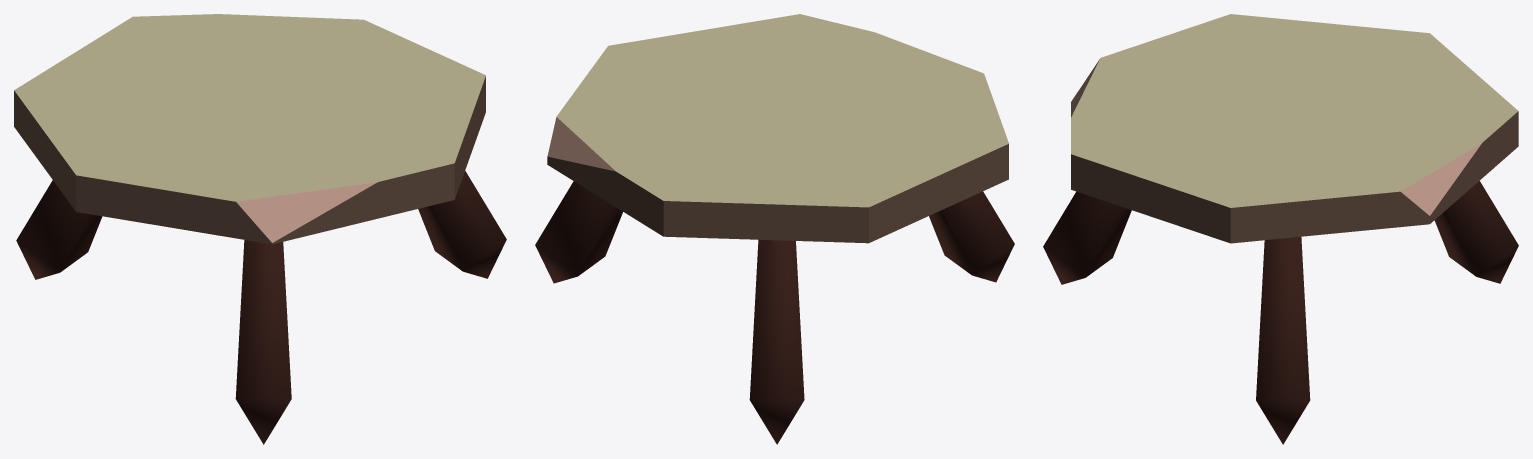
File: Witch Stool.fbx
The picture shows the model from 3 angles, left to right: view 1: azimuth 30°, elevation 25°; view 2: azimuth 150°, elevation 25°; view 3: azimuth 270°, elevation 25°; orthographic projection. The views are drawn at different scales.
Visible parts, largest first — view 1: Witch Stool; view 2: Witch Stool; view 3: Witch Stool.
Part boxes in pixels (<box>): Witch Stool: <box>14,14,506,444</box>; Witch Stool: <box>535,14,1014,444</box>; Witch Stool: <box>1043,14,1518,444</box>.
Size of the model in its own units: 1.21 by 0.5988 by 1.16.
